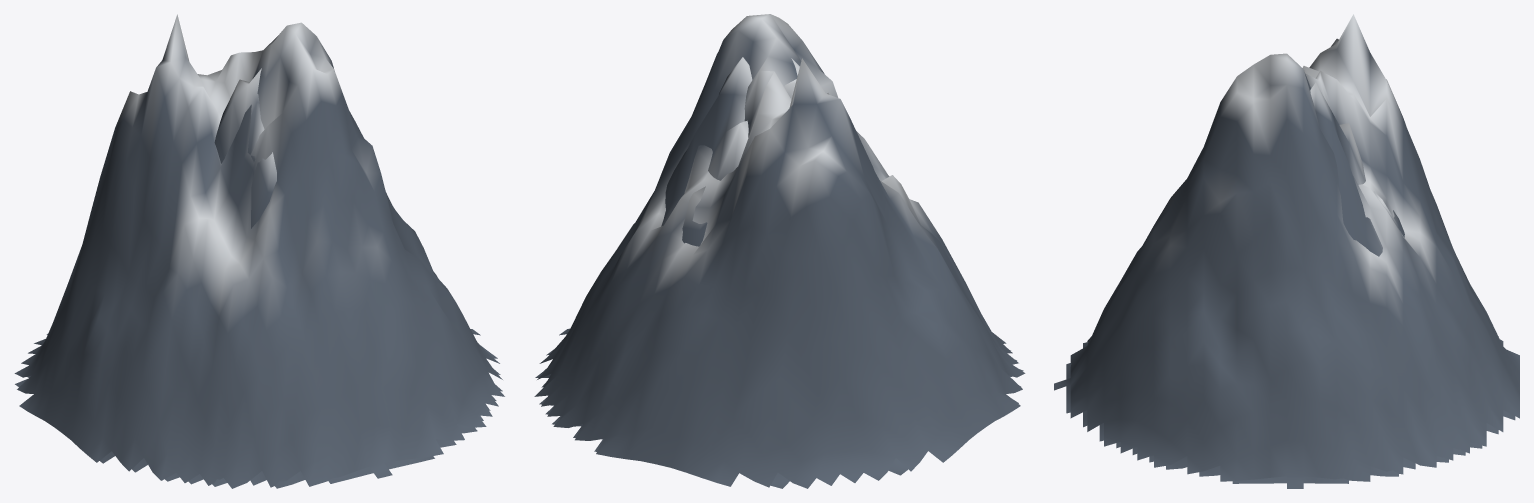
File: mountain_massif.glb
3 renders of one model, left to right at view 1: azimuth 30°, elevation 25°; view 2: azimuth 150°, elevation 25°; view 3: azimuth 270°, elevation 25°, orthographic. The views are drawn at different scales.
Parts seen in each view (by area): view 1: mountain-massif-1, mountain-massif-0; view 2: mountain-massif-1, mountain-massif-0; view 3: mountain-massif-1, mountain-massif-0.
Boxes of the visible parts, box(x1,y1,x2,y2) form: mountain-massif-1: box(14, 14, 504, 488); mountain-massif-0: box(15, 68, 502, 488); mountain-massif-1: box(534, 14, 1025, 488); mountain-massif-0: box(535, 57, 1023, 488); mountain-massif-1: box(1054, 14, 1519, 488); mountain-massif-0: box(1066, 82, 1515, 483).
Bounding box in the file's own units: 168 × 139 × 168.
